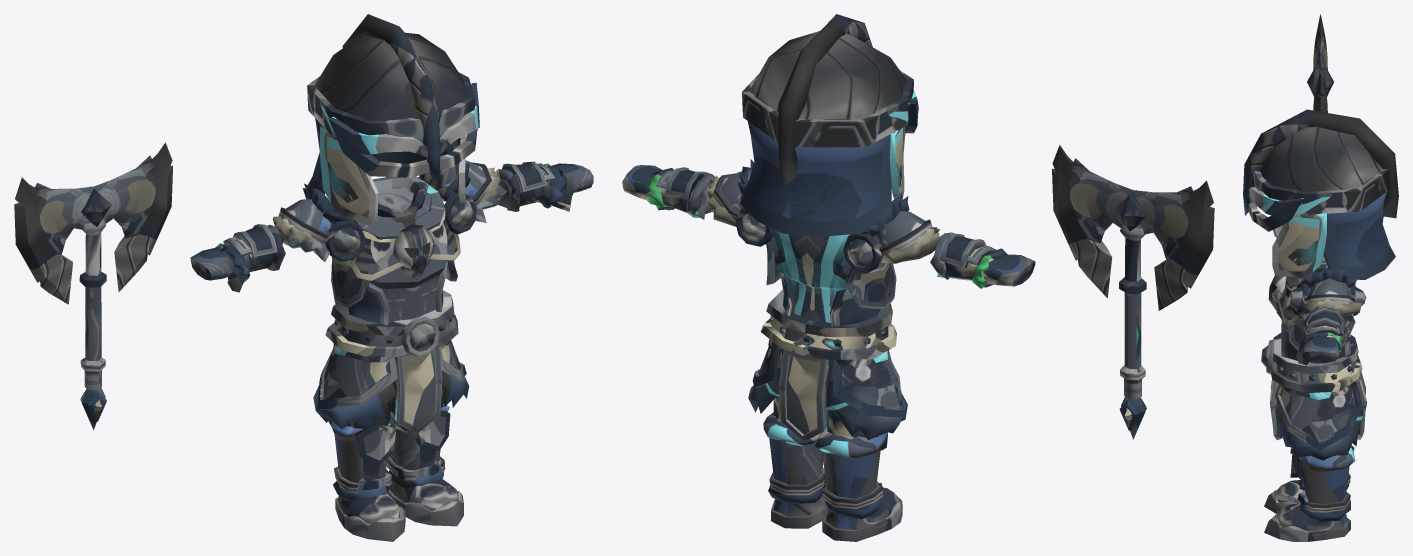
File: uc_set4_game.fbx
3 views of the same model, side by side, from view 1: azimuth 30°, elevation 25°; view 2: azimuth 150°, elevation 25°; view 3: azimuth 270°, elevation 25° (orthographic). The views are drawn at different scales.
Visible parts, largest first — view 1: uc_set4_Armor_game, uc_set4_Helmet_game, uc_set4_Weapon_game, uc_set4_Shoes_R_game, uc_set4_Shoes_L_game, uc_set4_Arm_R_game, uc_set4_Arm_L_game; view 2: uc_set4_Armor_game, uc_set4_Helmet_game, uc_set4_Weapon_game, uc_set4_Shoes_R_game, uc_set4_Shoes_L_game, uc_set4_Arm_R_game, uc_set4_Arm_L_game; view 3: uc_set4_Helmet_game, uc_set4_Armor_game, uc_set4_Shoes_L_game, uc_set4_Arm_L_game, uc_set4_Weapon_game, uc_set4_Shoes_R_game.
Part boxes in pixels (<box>): uc_set4_Armor_game: <box>272,160,507,433</box>; uc_set4_Helmet_game: <box>307,14,479,226</box>; uc_set4_Weapon_game: <box>14,142,172,429</box>; uc_set4_Shoes_R_game: <box>328,418,405,541</box>; uc_set4_Shoes_L_game: <box>386,403,463,526</box>; uc_set4_Arm_R_game: <box>190,224,285,292</box>; uc_set4_Arm_L_game: <box>498,161,593,211</box>; uc_set4_Armor_game: <box>706,159,939,441</box>; uc_set4_Helmet_game: <box>740,14,918,236</box>; uc_set4_Weapon_game: <box>1052,145,1214,439</box>; uc_set4_Shoes_R_game: <box>815,427,902,541</box>; uc_set4_Shoes_L_game: <box>763,409,828,528</box>; uc_set4_Arm_R_game: <box>930,232,1035,288</box>; uc_set4_Arm_L_game: <box>622,165,715,219</box>; uc_set4_Helmet_game: <box>1243,109,1398,279</box>; uc_set4_Armor_game: <box>1261,256,1367,460</box>; uc_set4_Shoes_L_game: <box>1264,445,1355,541</box>; uc_set4_Arm_L_game: <box>1296,307,1346,365</box>; uc_set4_Weapon_game: <box>1307,14,1333,112</box>; uc_set4_Shoes_R_game: <box>1264,443,1352,513</box>.
Bounding box in the file's own units: 244 × 200 × 68.92.
1 material, 1 textured.
